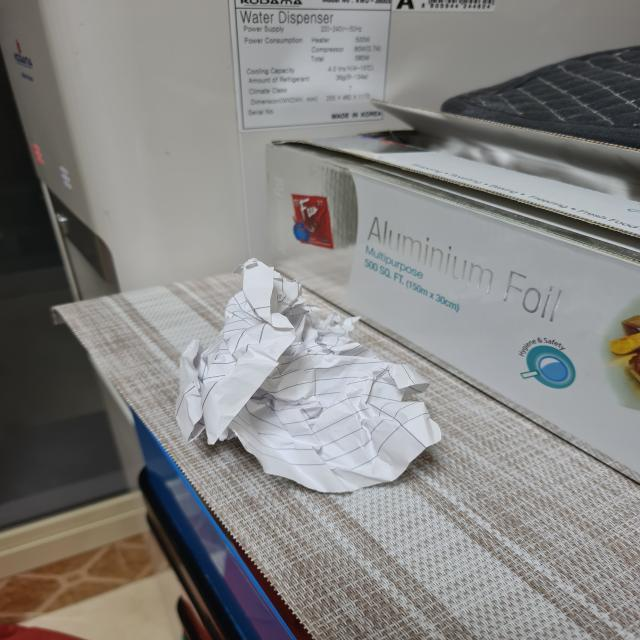Paper: (181, 260, 436, 486)
